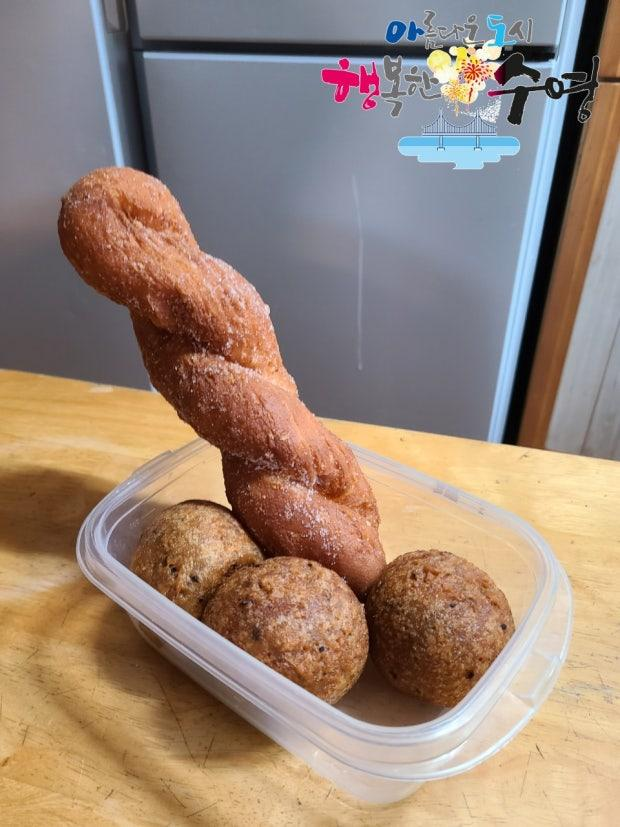Lunch Box: (58, 168, 572, 802)
